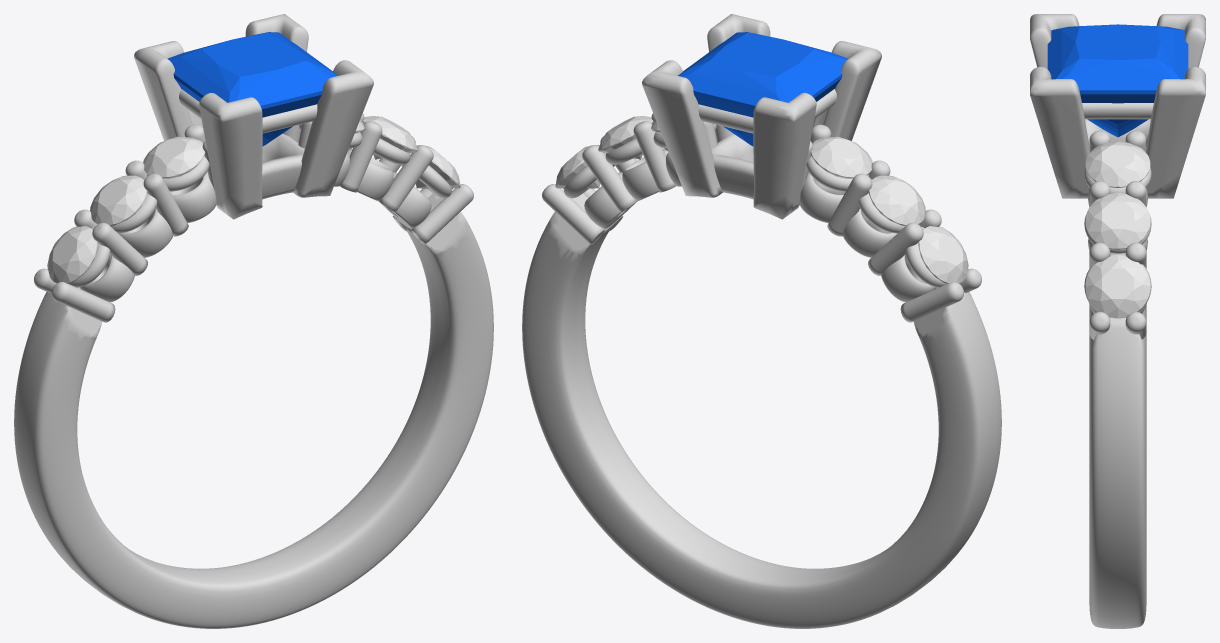
Rendered from bluesapphire-princess-platinum-protectededges4prongs-straightband-7stone.glb.
The picture shows the model from 3 angles, left to right: view 1: azimuth 30°, elevation 25°; view 2: azimuth 150°, elevation 25°; view 3: azimuth 270°, elevation 25°; orthographic projection.
Parts seen in each view (by area): view 1: metal, stone, side, side.001, side.002, side.004, side.005; view 2: metal, stone, side, side.001, side.002, side.004, side.005; view 3: metal, stone, side.005, side.004, side.003.
Boxes of the visible parts, bbox=[...] form: metal: bbox=[14, 14, 493, 628]; stone: bbox=[167, 32, 337, 146]; side: bbox=[47, 226, 97, 283]; side.001: bbox=[90, 175, 147, 225]; side.002: bbox=[143, 136, 205, 178]; side.004: bbox=[362, 116, 417, 159]; side.005: bbox=[416, 145, 460, 188]; metal: bbox=[522, 14, 1001, 628]; stone: bbox=[678, 32, 848, 146]; side: bbox=[918, 226, 968, 283]; side.001: bbox=[868, 175, 925, 225]; side.002: bbox=[810, 136, 872, 178]; side.004: bbox=[598, 116, 653, 159]; side.005: bbox=[555, 145, 599, 188]; metal: bbox=[1030, 14, 1205, 628]; stone: bbox=[1047, 24, 1188, 137]; side.005: bbox=[1085, 255, 1150, 318]; side.004: bbox=[1085, 193, 1150, 249]; side.003: bbox=[1085, 141, 1150, 187].
Size of the model in its own units: 20.51 by 23.85 by 6.77.
